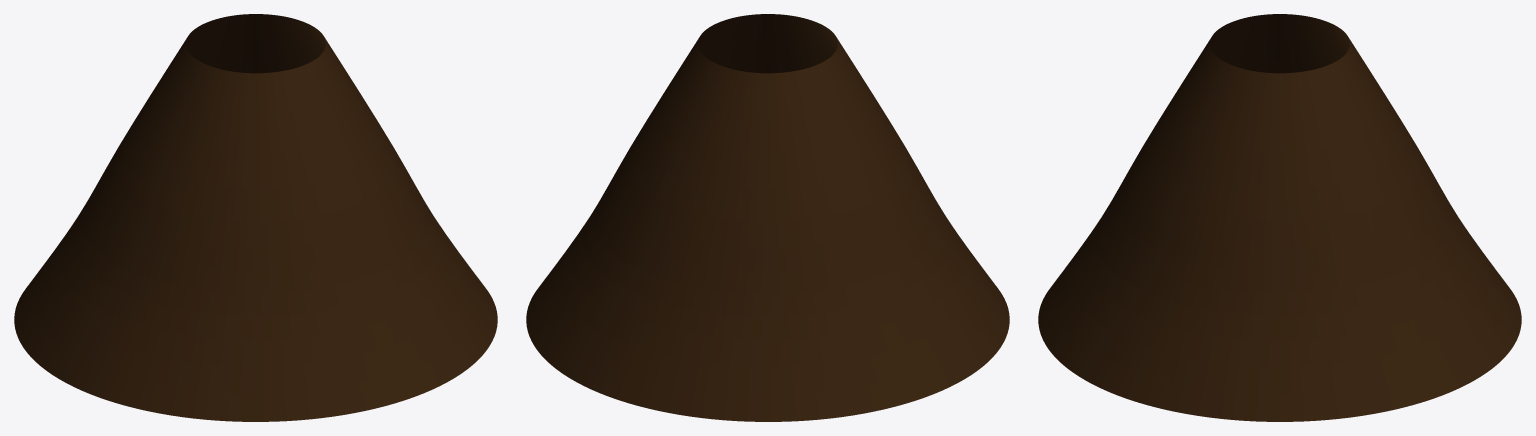
File: volcano.fbx
3 renders of one model, left to right at view 1: azimuth 30°, elevation 25°; view 2: azimuth 150°, elevation 25°; view 3: azimuth 270°, elevation 25°, orthographic.
Parts seen in each view (by area): view 1: Cylinder; view 2: Cylinder; view 3: Cylinder.
Part boxes in pixels (bbox=[...]): Cylinder: bbox=[14, 14, 497, 421]; Cylinder: bbox=[526, 14, 1009, 421]; Cylinder: bbox=[1038, 14, 1521, 421].
Size of the model in its own units: 1025 by 646 by 1025.
